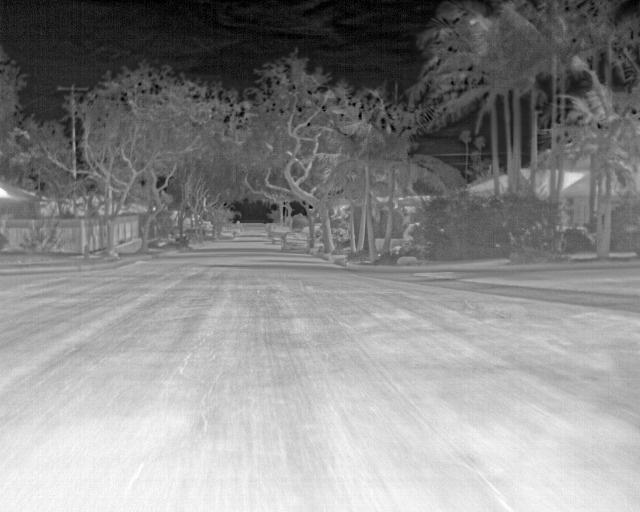car: (281, 230, 311, 252), (269, 223, 284, 243)
